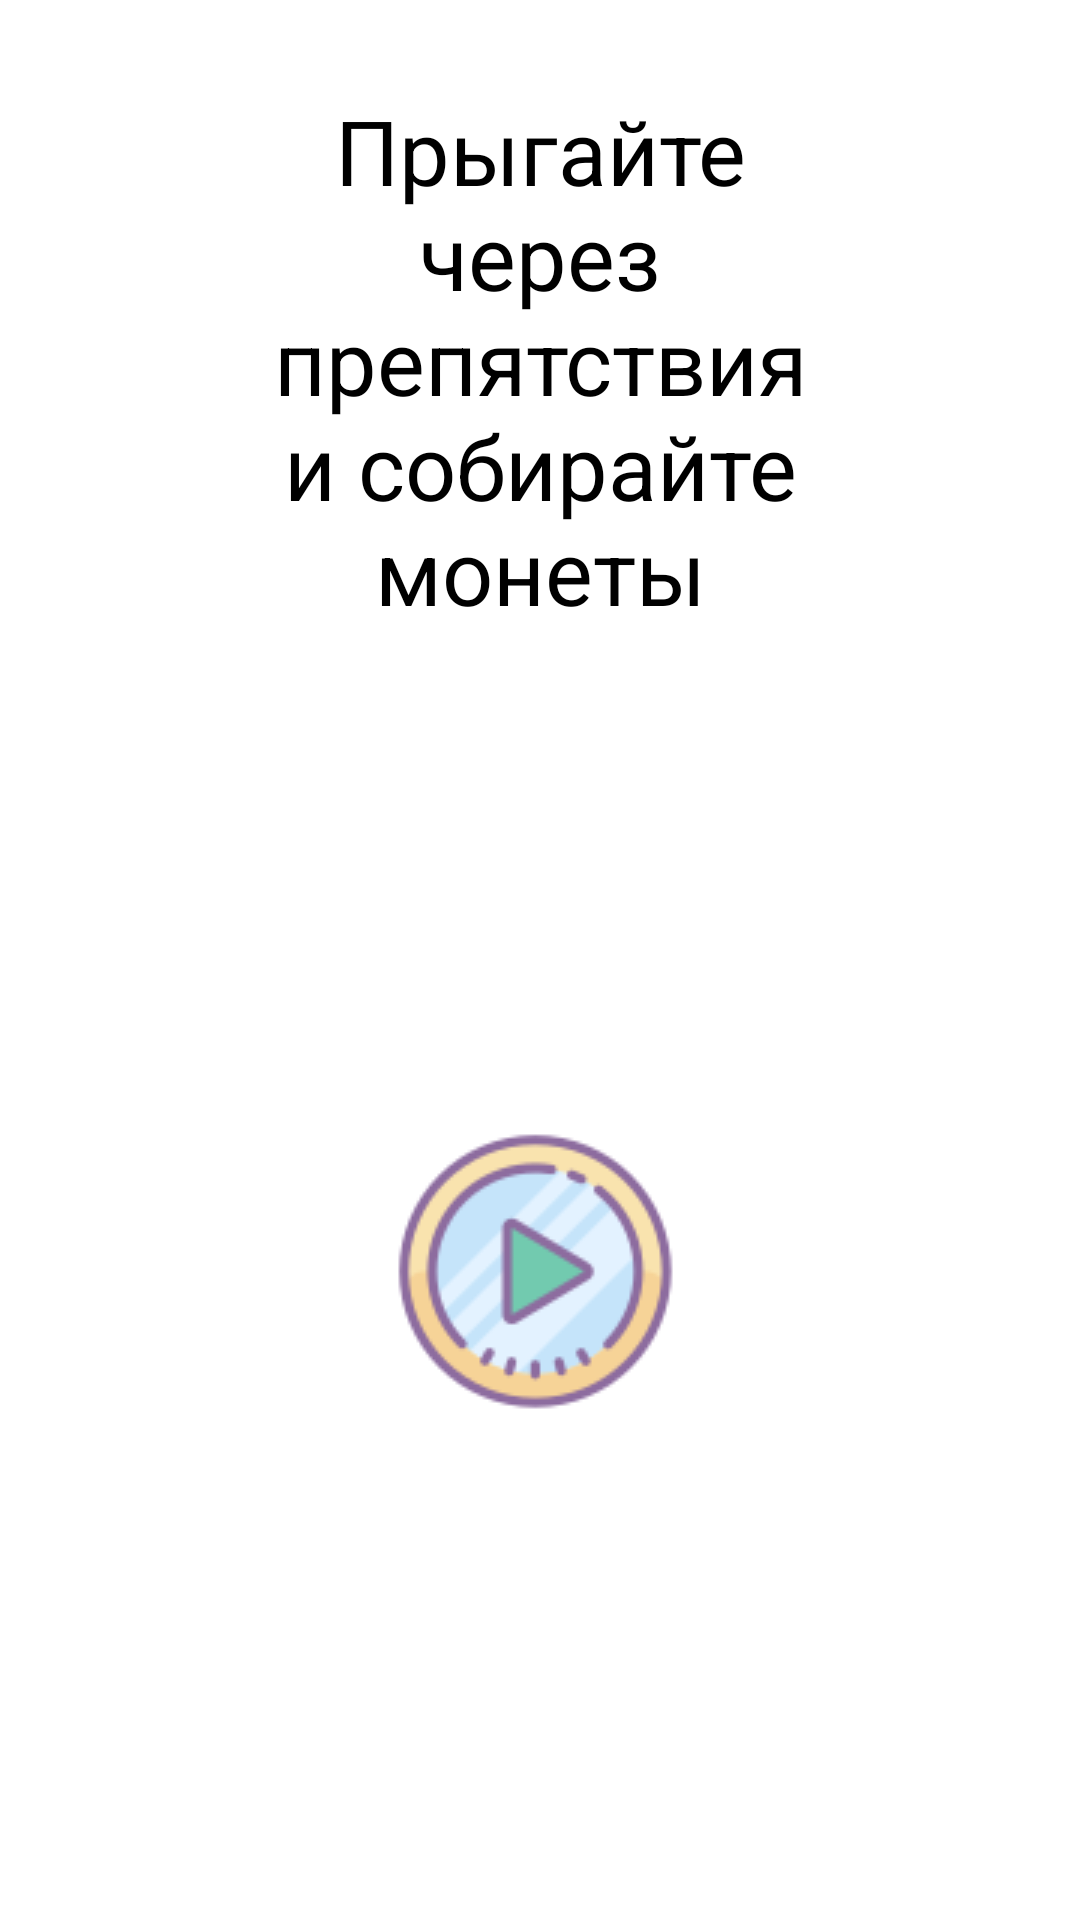

Locate icon controls on the screen. Image size 1080×1920, boxes as (x1, y1, x2, y2).
play: (398, 1134, 673, 1409)
